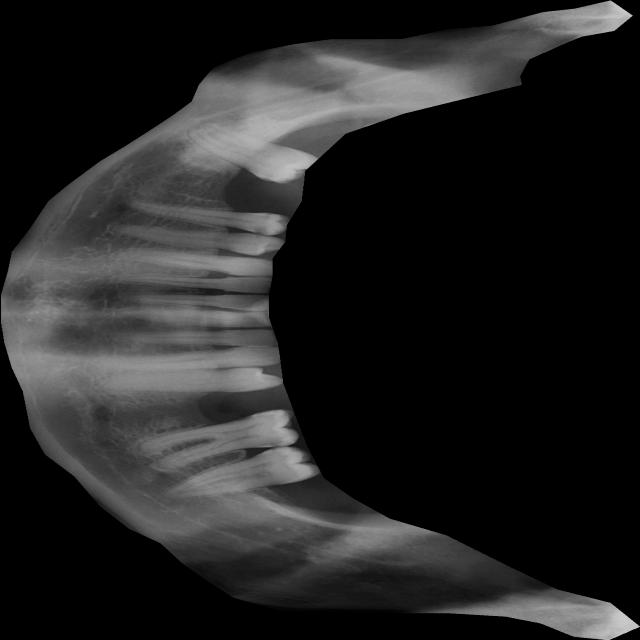mandibula: (0, 0, 639, 640)
